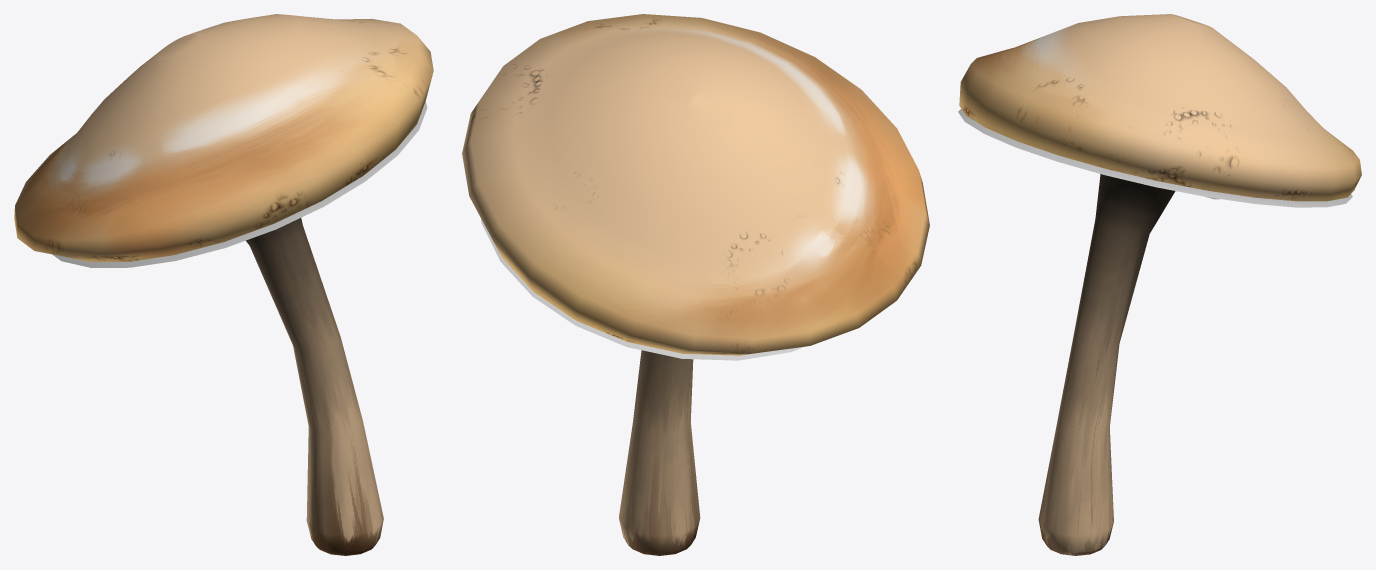
Rendered from flechte_plane.FBX.
3 renders of one model, left to right at view 1: azimuth 30°, elevation 25°; view 2: azimuth 150°, elevation 25°; view 3: azimuth 270°, elevation 25°, orthographic. The views are drawn at different scales.
Parts seen in each view (by area): view 1: Pilzkrumm, Object001; view 2: Pilzkrumm, Object001; view 3: Pilzkrumm, Object001.
Boxes of the visible parts, x1,y1,x2,y2 form: Pilzkrumm: (14,14,433,555); Object001: (52,101,427,267); Pilzkrumm: (462,14,929,555); Object001: (481,218,804,360); Pilzkrumm: (959,14,1361,555); Object001: (958,109,1352,207).
Size of the model in its own units: 186 by 175 by 234.
